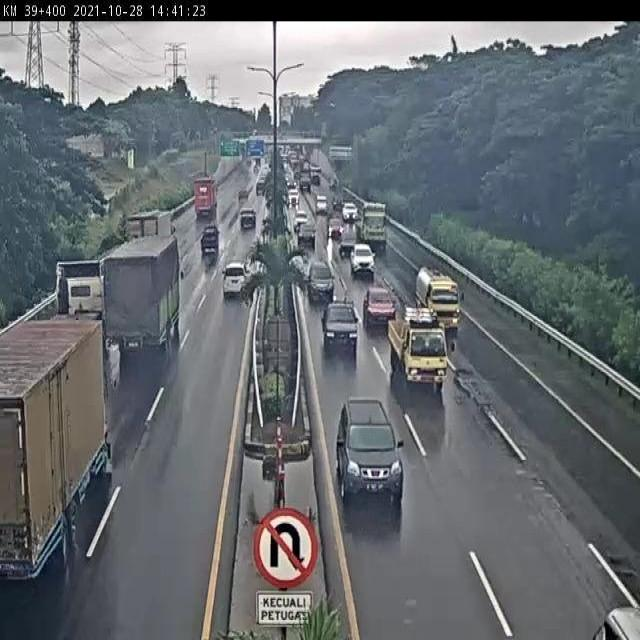big truck: (27, 257, 106, 359)
car: (335, 398, 405, 502), (322, 300, 358, 353), (363, 287, 397, 328), (306, 260, 335, 301), (222, 261, 250, 295), (350, 243, 375, 276), (201, 225, 220, 255)
mid truck: (0, 319, 113, 585), (102, 233, 184, 351), (127, 210, 176, 258)
truck-m-: (388, 301, 451, 391), (414, 265, 461, 336)
